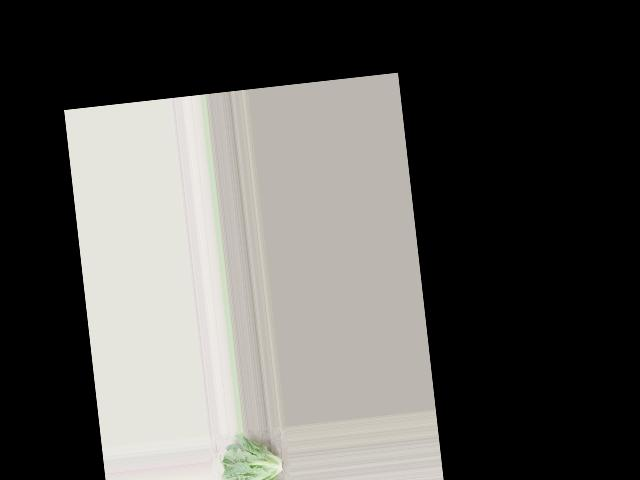lettuce: (214, 429, 291, 480)
